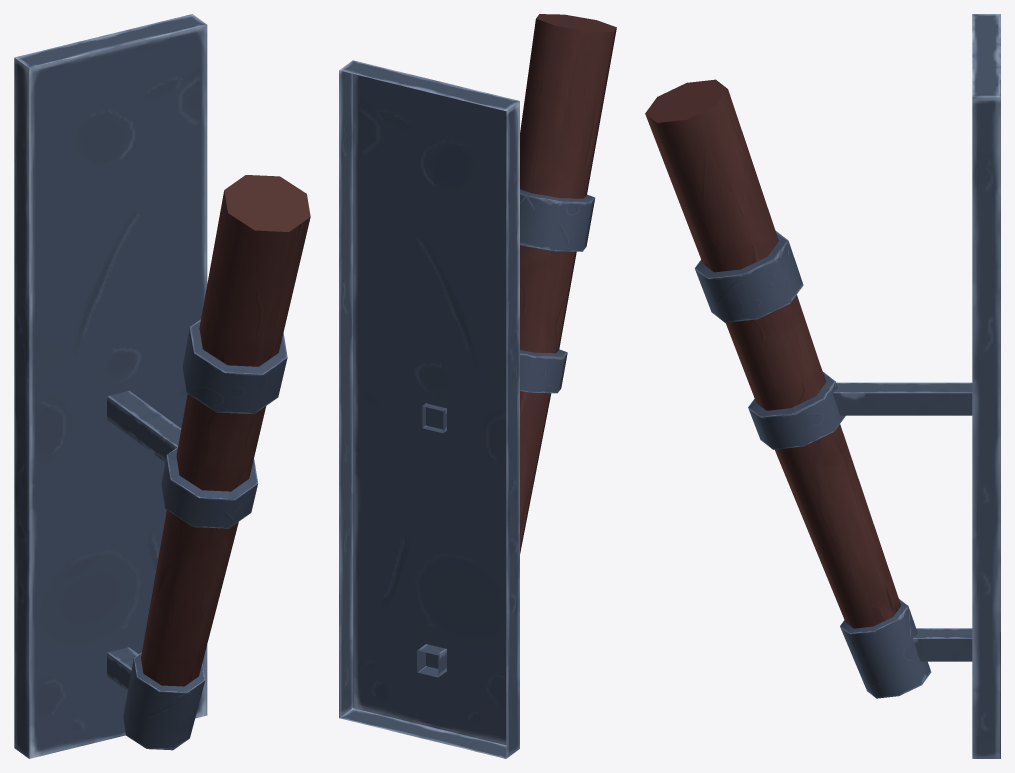
The model's file is WallTorch.fbx.
3 views of the same model, side by side, from view 1: azimuth 30°, elevation 25°; view 2: azimuth 150°, elevation 25°; view 3: azimuth 270°, elevation 25° (orthographic). The views are drawn at different scales.
Visible parts, largest first — view 1: WallTorch; view 2: WallTorch; view 3: WallTorch.
Boxes of the visible parts, x1,y1,x2,y2 form: WallTorch: (14,14,310,758); WallTorch: (339,14,616,758); WallTorch: (645,14,1000,758).
Bounding box in the file's own units: 0.5711 × 2.11 × 1.03.
